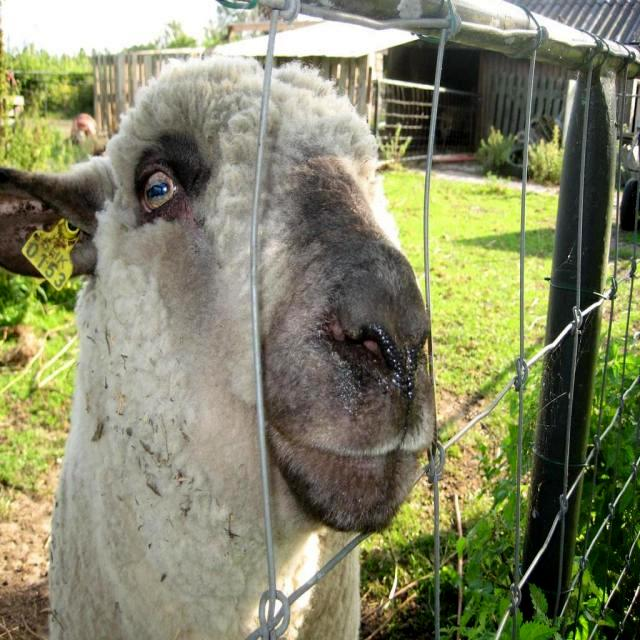sheep: (0, 50, 442, 640)
